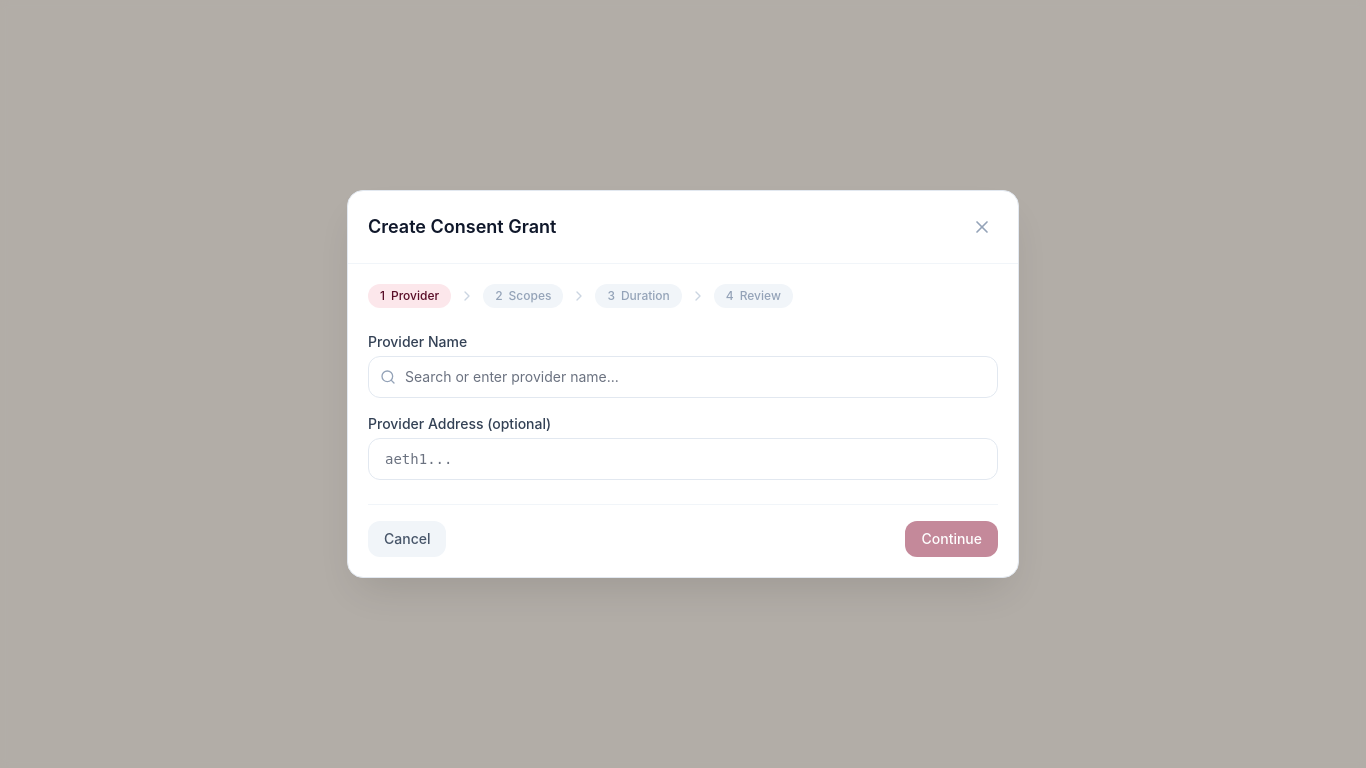
Test: CreateConsentModal › shows Back button on step 2 and goes back
// Enter provider name
Type "Test" into the field with placeholder "Search or enter provider name...".
click(683, 377); type("Test")  # box 368,356 -> 998,398
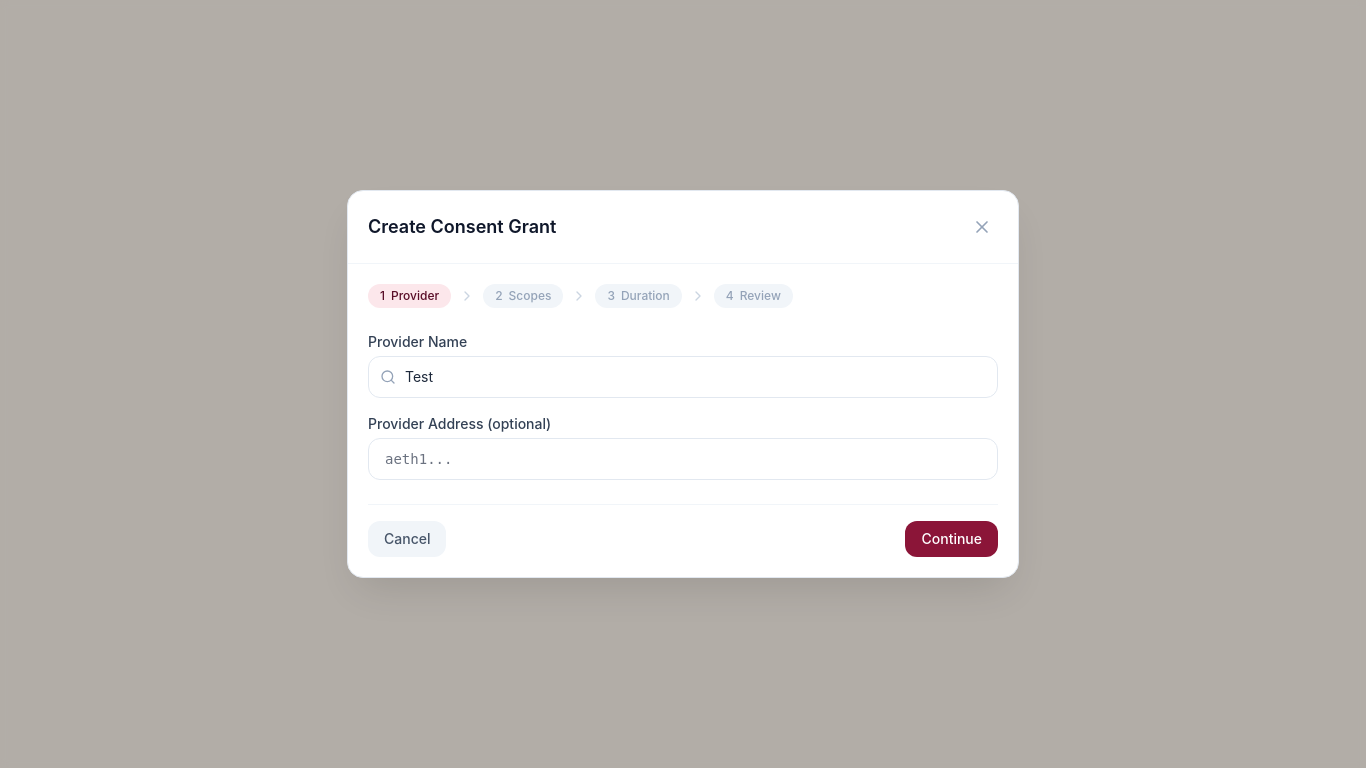
Click the button "Continue".
click(952, 539)  # box 906,521 -> 998,557
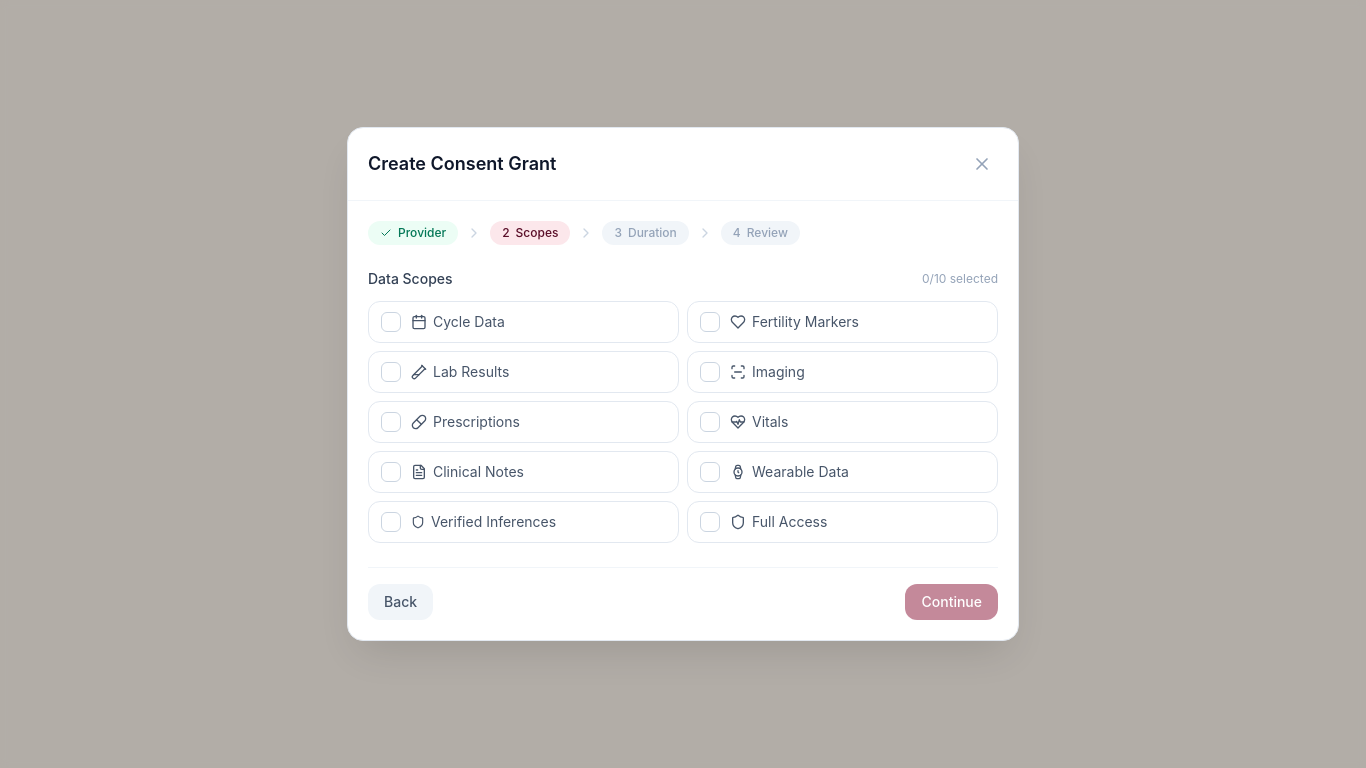
// Now on step 2, click Back
Click the button "Back".
click(401, 602)  # box 368,584 -> 433,620
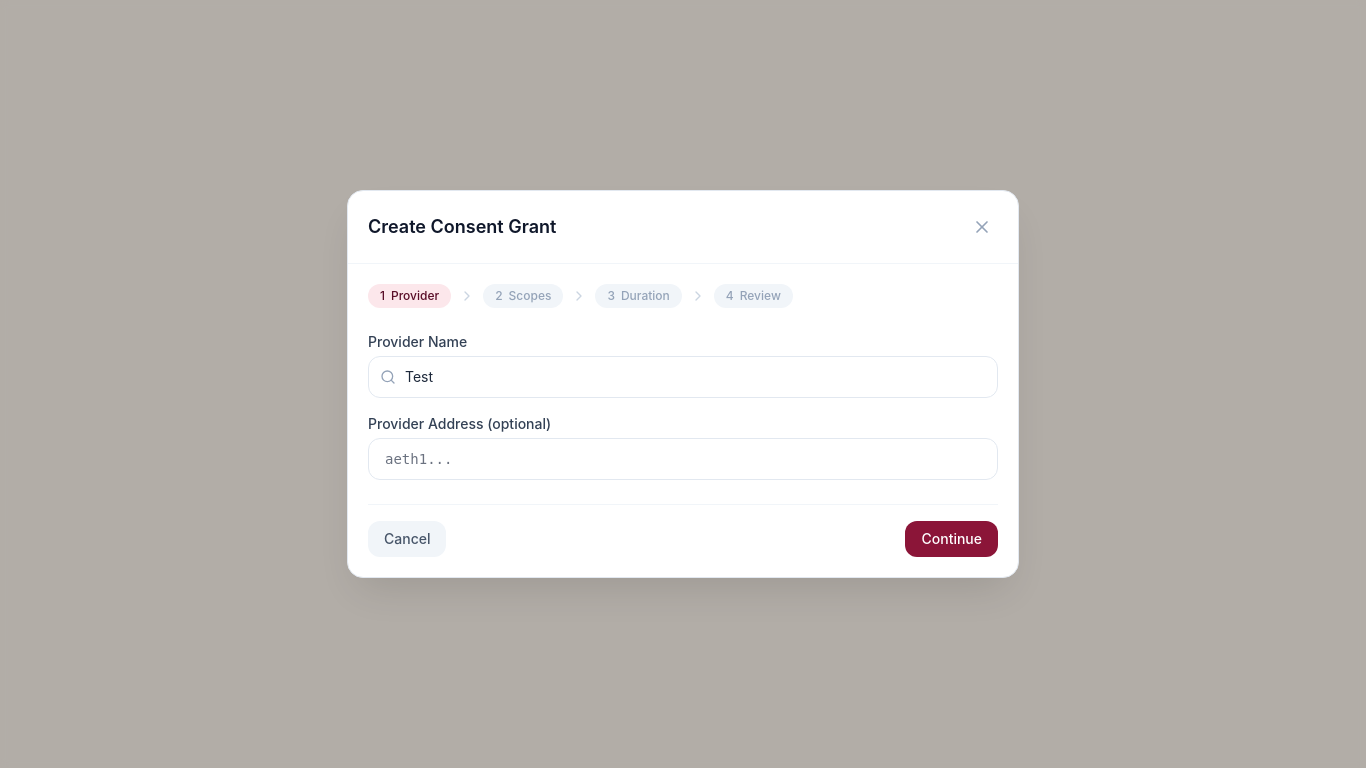
Now the button "Cancel" is shown, box 368,521 -> 446,557
